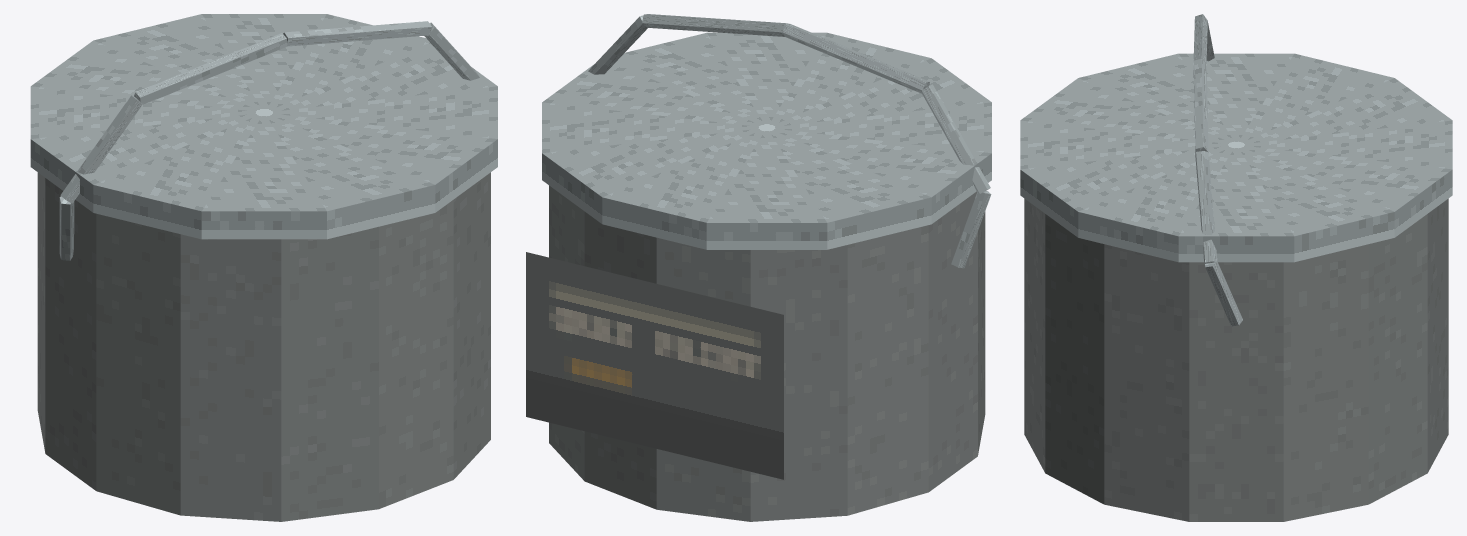
The model's file is paint_gray.glb.
3 views of the same model, side by side, from view 1: azimuth 30°, elevation 25°; view 2: azimuth 150°, elevation 25°; view 3: azimuth 270°, elevation 25° (orthographic). The views are drawn at different scales.
Parts seen in each view (by area): view 1: block_body, block_paint bucket lid, block_wire carry bail 2, block_wire carry bail 3, block_wire carry bail 1, block_wire carry bail 4, block_wire carry bail 0; view 2: block_body, block_paint bucket lid, block_paint label, block_wire carry bail 2, block_wire carry bail 3, block_wire carry bail 1, block_wire carry bail 0, block_wire carry bail 4; view 3: block_body, block_paint bucket lid, block_wire carry bail 4, block_wire carry bail 3, block_wire carry bail 5, block_wire carry bail 2.
Boxes of the visible parts, bbox=[...] form: block_body: bbox=[37, 172, 490, 521]; block_paint bucket lid: bbox=[30, 14, 497, 239]; block_wire carry bail 2: bbox=[134, 33, 287, 104]; block_wire carry bail 3: bbox=[283, 21, 431, 46]; block_wire carry bail 1: bbox=[60, 95, 142, 203]; block_wire carry bail 4: bbox=[424, 22, 479, 80]; block_wire carry bail 0: bbox=[59, 196, 74, 260]; block_body: bbox=[549, 185, 985, 521]; block_paint bucket lid: bbox=[542, 32, 991, 249]; block_paint label: bbox=[526, 252, 783, 479]; block_wire carry bail 2: bbox=[782, 23, 929, 93]; block_wire carry bail 3: bbox=[642, 14, 788, 36]; block_wire carry bail 1: bbox=[921, 84, 990, 193]; block_wire carry bail 0: bbox=[951, 191, 991, 268]; block_wire carry bail 4: bbox=[588, 15, 647, 74]; block_body: bbox=[1024, 198, 1448, 521]; block_paint bucket lid: bbox=[1020, 53, 1452, 262]; block_wire carry bail 4: bbox=[1195, 151, 1217, 264]; block_wire carry bail 3: bbox=[1193, 58, 1208, 152]; block_wire carry bail 5: bbox=[1205, 260, 1242, 326]; block_wire carry bail 2: bbox=[1193, 14, 1207, 63].
Size of the model in its own units: 0.2967 by 0.2663 by 0.276.
2 materials, 2 textured.
